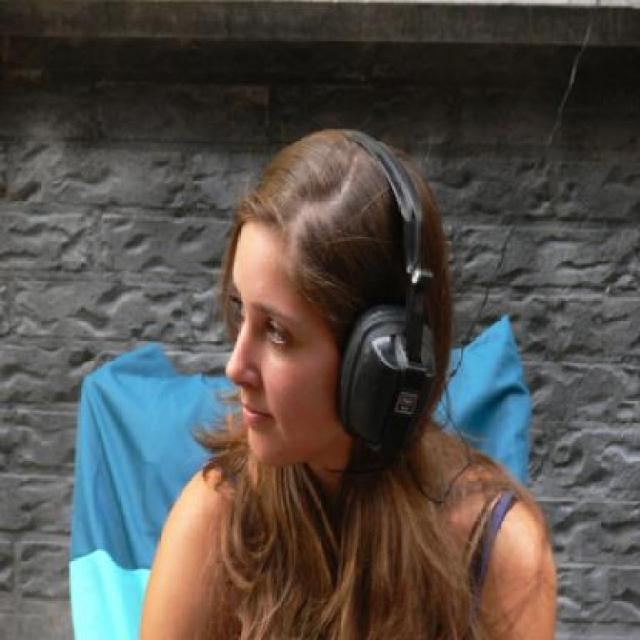earphone: (322, 127, 453, 468)
